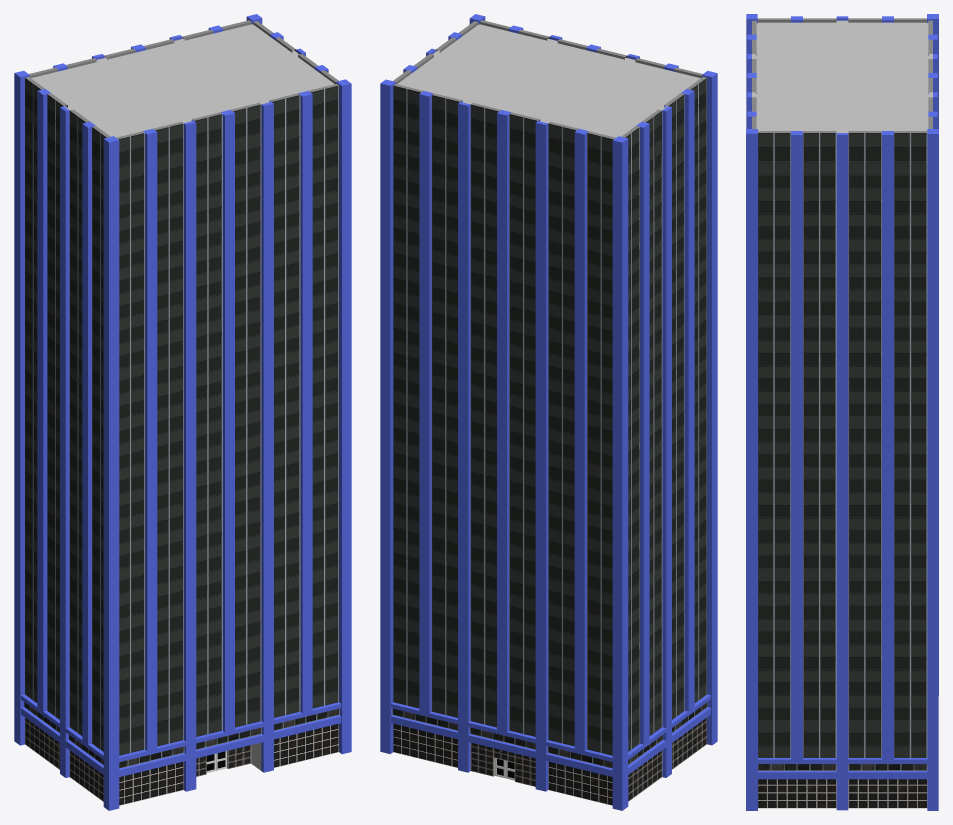
Rendered from Office-03.fbx.
3 renders of one model, left to right at view 1: azimuth 30°, elevation 25°; view 2: azimuth 150°, elevation 25°; view 3: azimuth 270°, elevation 25°, orthographic.
Parts seen in each view (by area): view 1: Building; view 2: Building; view 3: Building.
Boxes of the visible parts, <box> form: Building: <box>14,14,351,810</box>; Building: <box>380,14,717,810</box>; Building: <box>746,14,938,810</box>.
Size of what is drawn, in the model's own units: 30.46 by 80.2 by 20.7.
